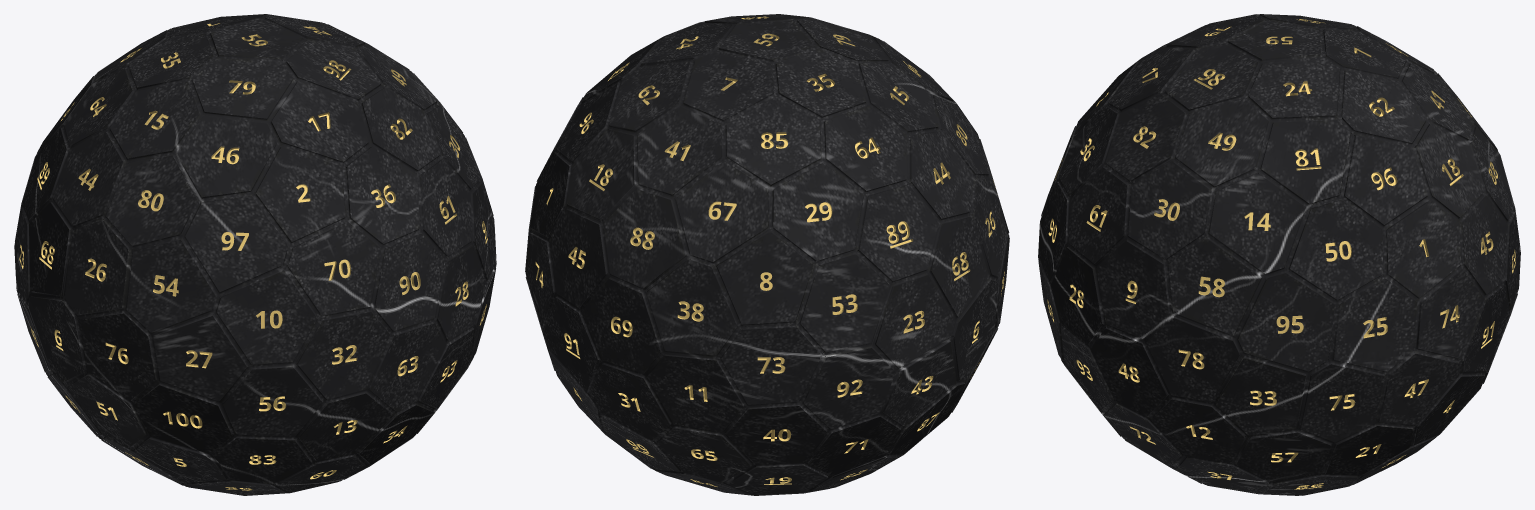
The picture shows the model from 3 angles, left to right: view 1: azimuth 30°, elevation 25°; view 2: azimuth 150°, elevation 25°; view 3: azimuth 270°, elevation 25°; orthographic projection.
Parts seen in each view (by area): view 1: body.001; view 2: body.001; view 3: body.001.
Part boxes in pixels (x1,y1,x2,y2): body.001: [14, 14, 496, 495]; body.001: [525, 14, 1009, 495]; body.001: [1038, 14, 1520, 495].
Size of the model in its own units: 0.9863 by 0.9719 by 0.9916.
Materials: 2 (1 with a texture image).
